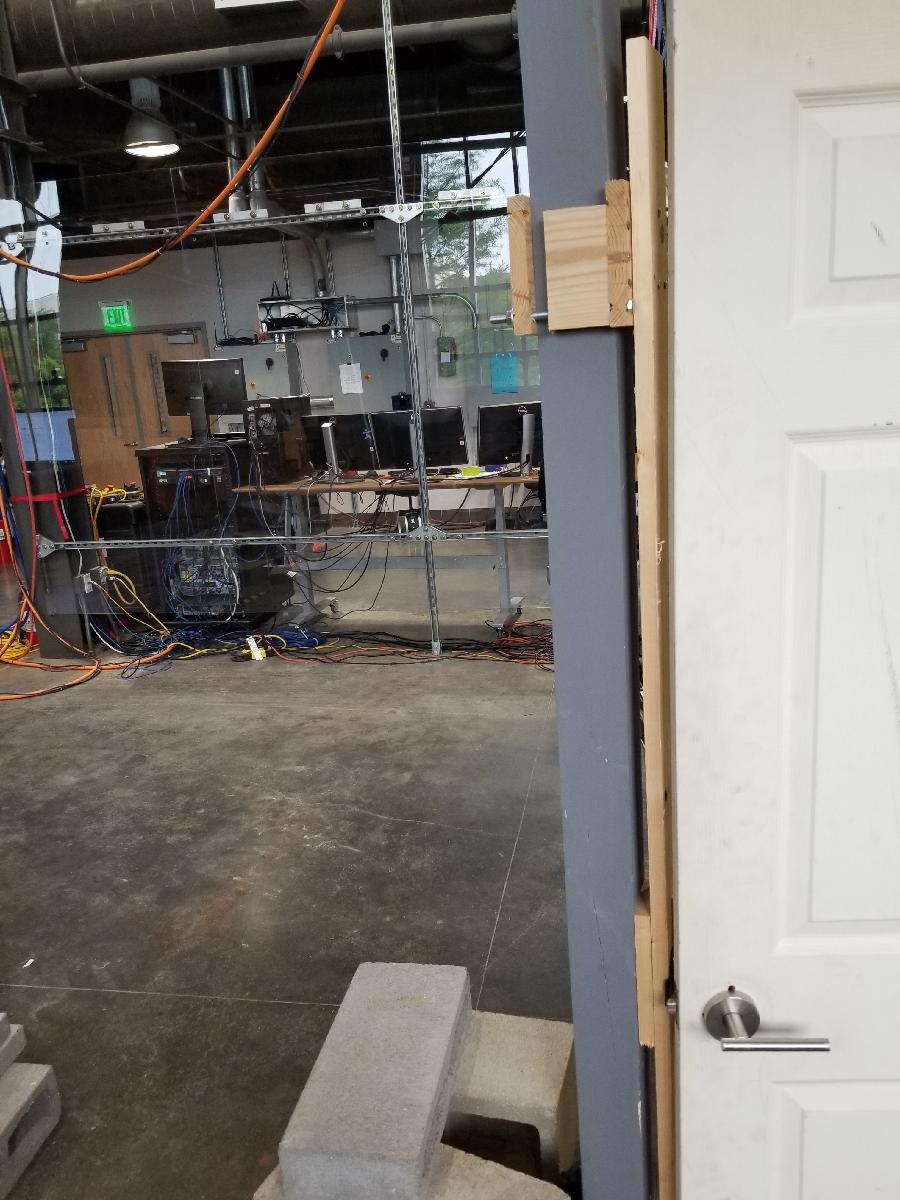doorHandle: (697, 987, 839, 1066)
